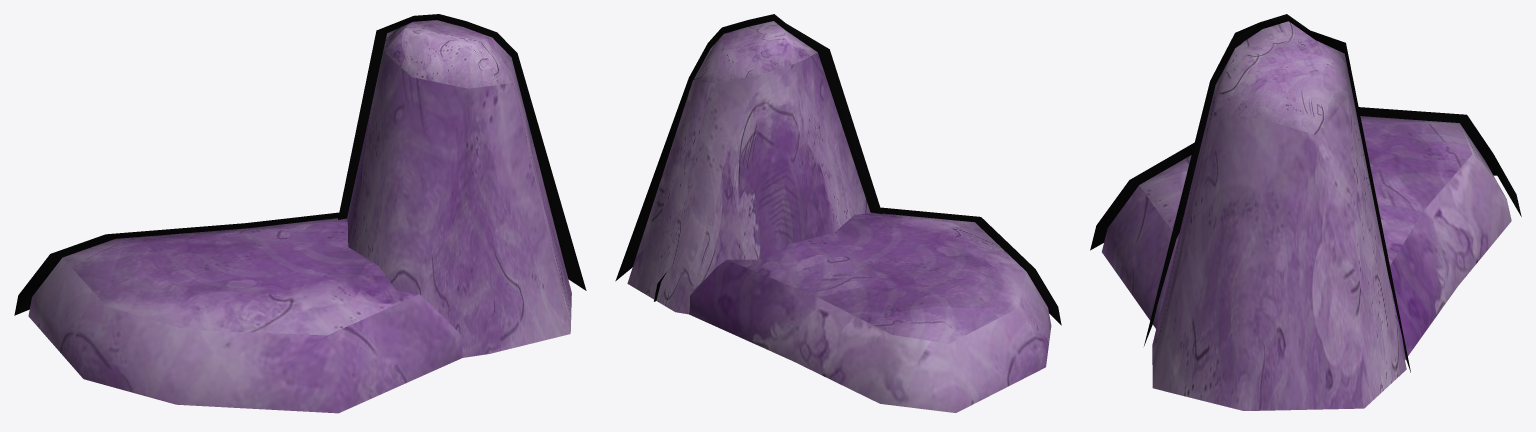
The model's file is entity306186.gltf.
The picture shows the model from 3 angles, left to right: view 1: azimuth 30°, elevation 25°; view 2: azimuth 150°, elevation 25°; view 3: azimuth 270°, elevation 25°; orthographic projection. The views are drawn at different scales.
Visible parts, largest first — view 1: node_Rock_013; view 2: node_Rock_013; view 3: node_Rock_013.
Boxes of the visible parts, bbox=[...] form: node_Rock_013: bbox=[14, 14, 586, 413]; node_Rock_013: bbox=[615, 14, 1061, 412]; node_Rock_013: bbox=[1090, 14, 1521, 410].
Size of what is drawn, in the model's own units: 4.24 by 2.47 by 3.03.
